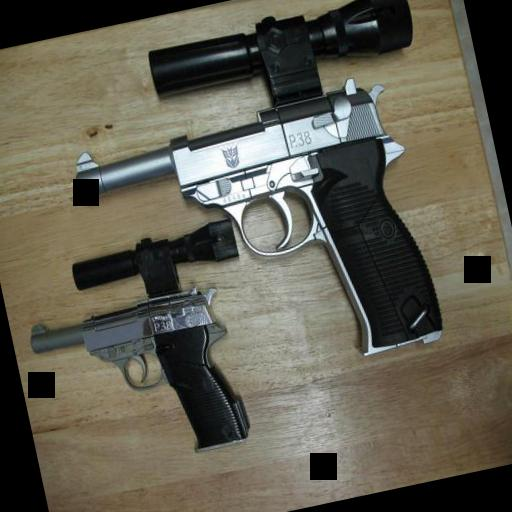Handgun: (46, 0, 482, 419), (6, 212, 281, 494)
